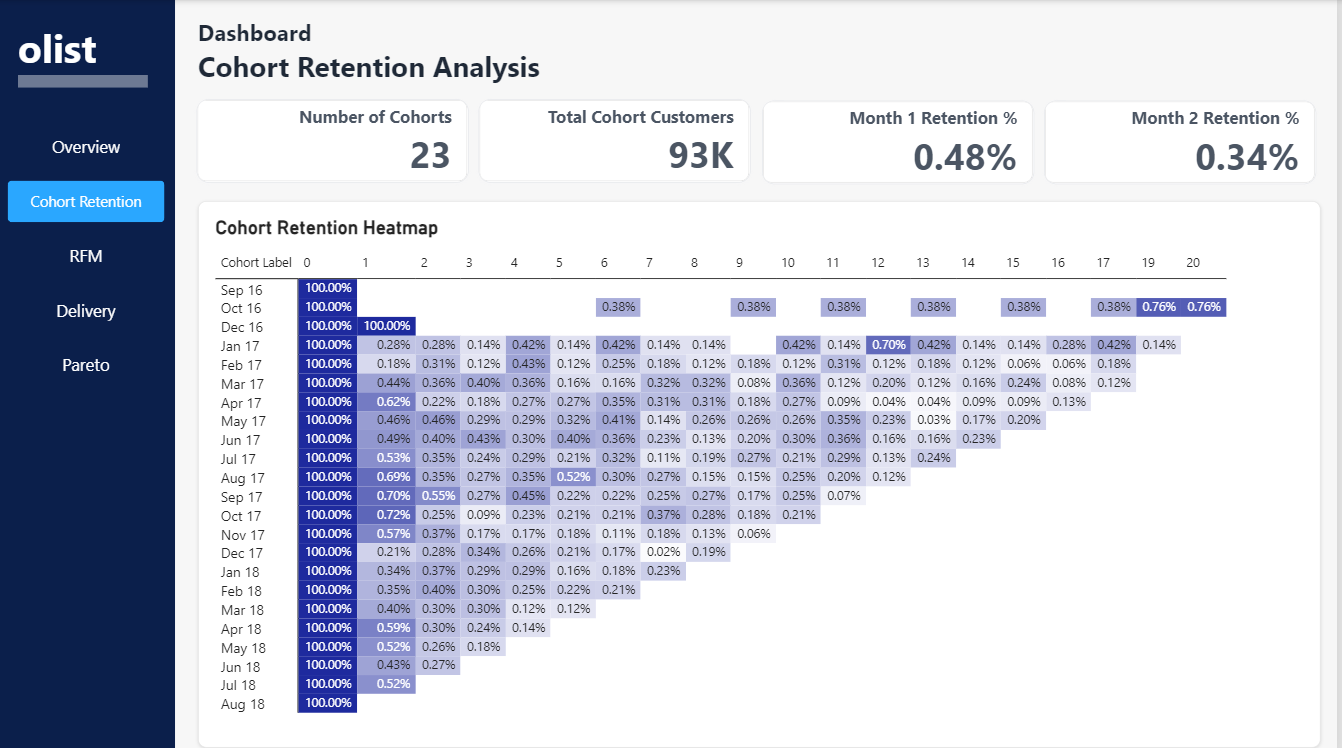

Layout of this report page (visuals, bound fields, positions):
{"tool":"powerbi","page":{"name":"Cohort Retention","canvas":[1280,720],"ordinal":1},"visuals":[{"type":"shape","box":[0,0,170,720],"z":0},{"type":"textbox","box":[20,20,160,64],"z":1000},{"type":"shape","box":[20,72,124,12],"z":2000},{"type":"pageNavigator","box":[10,120,150,250],"z":3000},{"type":"textbox","box":[192,16,480,70],"z":4000},{"type":"pivotTable","title":"Cohort Retention Heatmap","fields":{"Columns":["cohort_retention.months_since_first_order"],"Rows":["cohort_retention.Cohort Label"],"Values":["cohort_retention.Retention %"]},"box":[192,192,1072,522],"z":5000},{"type":"cardVisual","fields":{"Data":["cohort_retention.Number of Cohorts"]},"box":[190,95,260,80],"z":6000},{"type":"cardVisual","fields":{"Data":["cohort_retention.Total Cohort Customers"]},"box":[460,95,260,80],"z":7000},{"type":"cardVisual","fields":{"Data":["cohort_retention.Month 1 Retention %"]},"box":[730,96,260,80],"z":8000},{"type":"cardVisual","fields":{"Data":["cohort_retention.Month 2 Retention %"]},"box":[1000,96,260,80],"z":9000}]}

Visuals, with their boxes on the page's 1280x720 design canvas (x1, y1, x2, y2). These are canvas units, not pixel positions in the 1342x748 screenshot, which may show the page scaled, cropped or inside an application window:
shape: select_region(0, 0, 170, 720)
textbox: select_region(20, 20, 180, 84)
shape: select_region(20, 72, 144, 84)
pageNavigator: select_region(10, 120, 160, 370)
textbox: select_region(192, 16, 672, 86)
"Cohort Retention Heatmap" pivotTable: select_region(192, 192, 1264, 714)
cardVisual - cohort_retention.Number of Cohorts: select_region(190, 95, 450, 175)
cardVisual - cohort_retention.Total Cohort Customers: select_region(460, 95, 720, 175)
cardVisual - cohort_retention.Month 1 Retention %: select_region(730, 96, 990, 176)
cardVisual - cohort_retention.Month 2 Retention %: select_region(1000, 96, 1260, 176)
